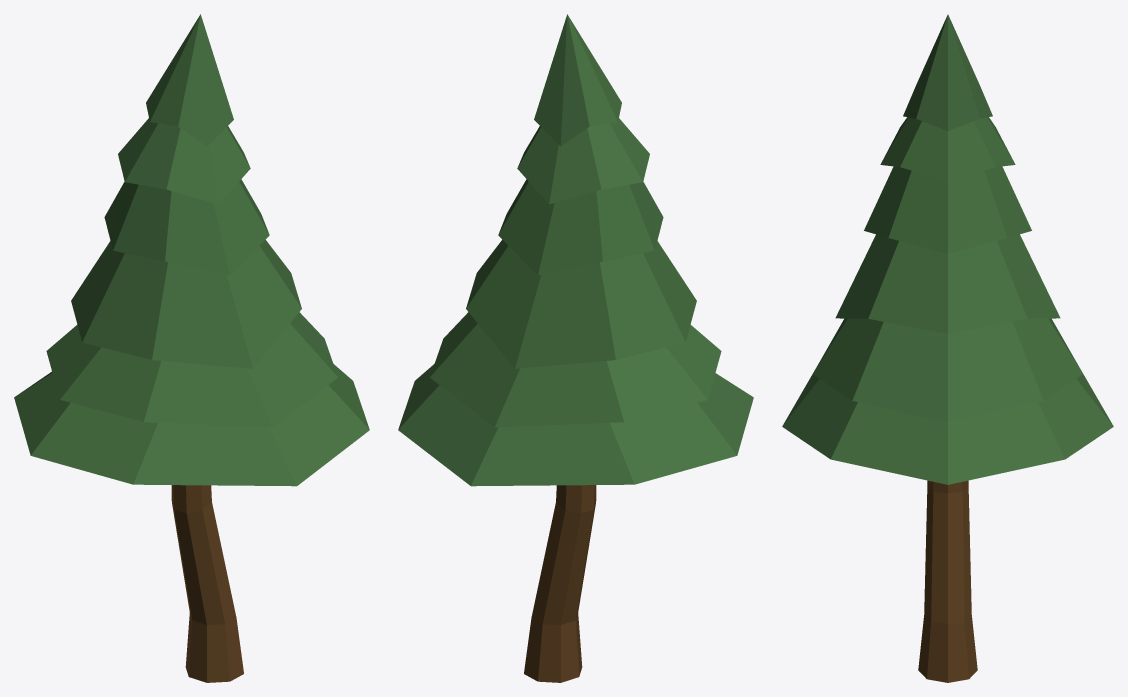
The model's file is f_long_pine_tree2.fbx.
3 views of the same model, side by side, from view 1: azimuth 30°, elevation 25°; view 2: azimuth 150°, elevation 25°; view 3: azimuth 270°, elevation 25° (orthographic).
Visible parts, largest first — view 1: pine tree 2; view 2: pine tree 2; view 3: pine tree 2.
Boxes of the visible parts, x1,y1,x2,y2 form: pine tree 2: (14, 14, 369, 682); pine tree 2: (398, 14, 753, 682); pine tree 2: (782, 14, 1113, 682).
Size of the model in its own units: 1122 by 2193 by 1016.
